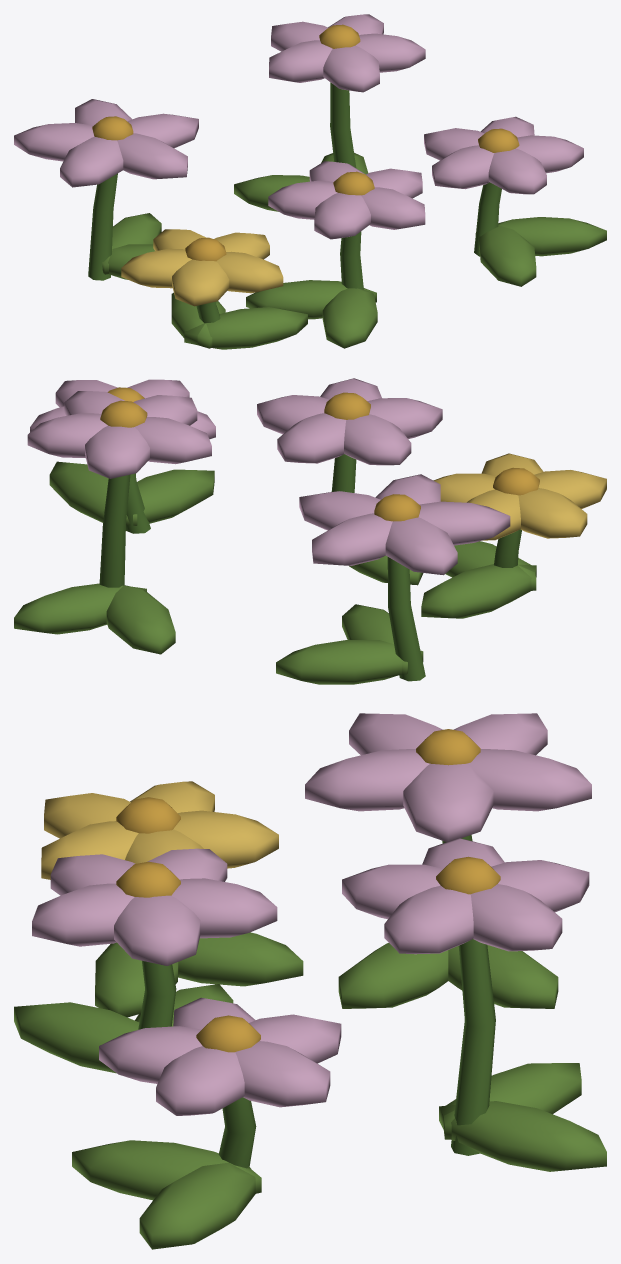
The model's file is flowers-lilac.glb.
3 views of the same model, one above another, from view 1: azimuth 30°, elevation 25°; view 2: azimuth 150°, elevation 25°; view 3: azimuth 270°, elevation 25° (orthographic). The views are drawn at different scales.
Visible parts, largest first — view 1: Wildflower basal leaf.008, Wildflower basal leaf.007, Wildflower basal leaf.006, Wildflower basal leaf.005, Wildflower basal leaf.004, Rounded flower petal.004, Rounded flower petal.003, Rounded flower petal.002, Rounded flower petal.017, Rounded flower petal.021, Rounded flower petal.008, Rounded flower petal.012 (+31 smaller); view 2: Wildflower basal leaf.001, Wildflower basal leaf.009, Wildflower basal leaf.002, Wildflower basal leaf.003, Rounded flower petal.001, Rounded flower petal.002, Wildflower basal leaf.006, Rounded flower petal.003, Rounded flower petal.011, Wildflower short stem, Rounded flower petal.006, Rounded flower petal.010 (+28 smaller); view 3: Wildflower basal leaf.002, Wildflower basal leaf.007, Wildflower short stem.001, Wildflower basal leaf.006, Rounded flower petal, Rounded flower petal.004, Rounded flower petal.001, Wildflower basal leaf.005, Wildflower basal leaf, Wildflower basal leaf.009, Rounded flower petal.009, Rounded flower petal.014 (+31 smaller).
Part boxes in pixels (<box>): Wildflower basal leaf.008: <box>184,307,307,349</box>; Wildflower basal leaf.007: <box>475,217,606,256</box>; Wildflower basal leaf.006: <box>479,225,536,286</box>; Wildflower basal leaf.005: <box>322,288,377,348</box>; Wildflower basal leaf.004: <box>246,280,376,319</box>; Rounded flower petal.004: <box>117,133,187,179</box>; Rounded flower petal.003: <box>60,136,123,187</box>; Rounded flower petal.002: <box>14,123,94,161</box>; Rounded flower petal.017: <box>488,148,546,194</box>; Rounded flower petal.021: <box>172,259,229,306</box>; Rounded flower petal.008: <box>323,45,379,92</box>; Rounded flower petal.012: <box>314,193,370,239</box>; Wildflower basal leaf.001: <box>276,640,423,684</box>; Wildflower basal leaf.009: <box>421,564,536,618</box>; Wildflower basal leaf.002: <box>14,583,146,634</box>; Wildflower basal leaf.003: <box>106,585,175,654</box>; Rounded flower petal.001: <box>312,513,392,565</box>; Rounded flower petal.002: <box>385,517,457,575</box>; Wildflower basal leaf.006: <box>103,469,214,523</box>; Rounded flower petal.003: <box>418,501,510,545</box>; Rounded flower petal.011: <box>344,414,411,465</box>; Wildflower short stem: <box>387,557,425,681</box>; Rounded flower petal.006: <box>85,425,149,478</box>; Rounded flower petal.010: <box>277,413,346,463</box>; Wildflower basal leaf.002: <box>439,1101,606,1171</box>; Wildflower basal leaf.007: <box>139,1162,255,1249</box>; Wildflower short stem.001: <box>451,939,495,1155</box>; Wildflower basal leaf.006: <box>72,1140,261,1200</box>; Rounded flower petal: <box>403,763,493,841</box>; Rounded flower petal.004: <box>305,749,429,811</box>; Rounded flower petal.001: <box>467,749,591,811</box>; Wildflower basal leaf.005: <box>14,1002,139,1073</box>; Wildflower basal leaf: <box>338,943,448,1008</box>; Wildflower basal leaf.009: <box>178,932,303,986</box>; Rounded flower petal.009: <box>384,885,473,954</box>; Rounded flower petal.014: <box>114,895,200,965</box>.
Size of the model in its own units: 0.8289 by 0.314 by 0.5936.
